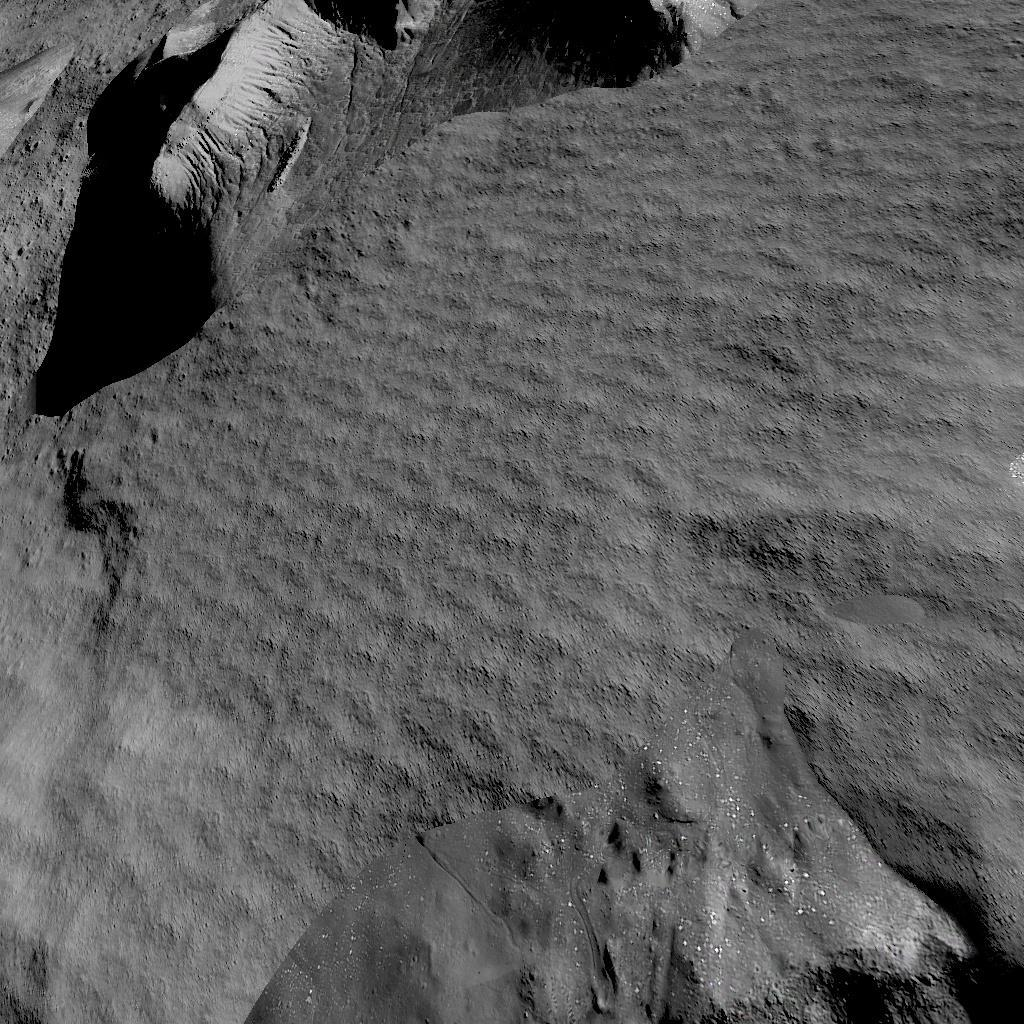Boulders: (41, 0, 768, 418)
Crater: (248, 808, 1024, 1024)
Plan surface: (0, 430, 1024, 795), (783, 0, 1024, 418), (0, 808, 238, 1024)
